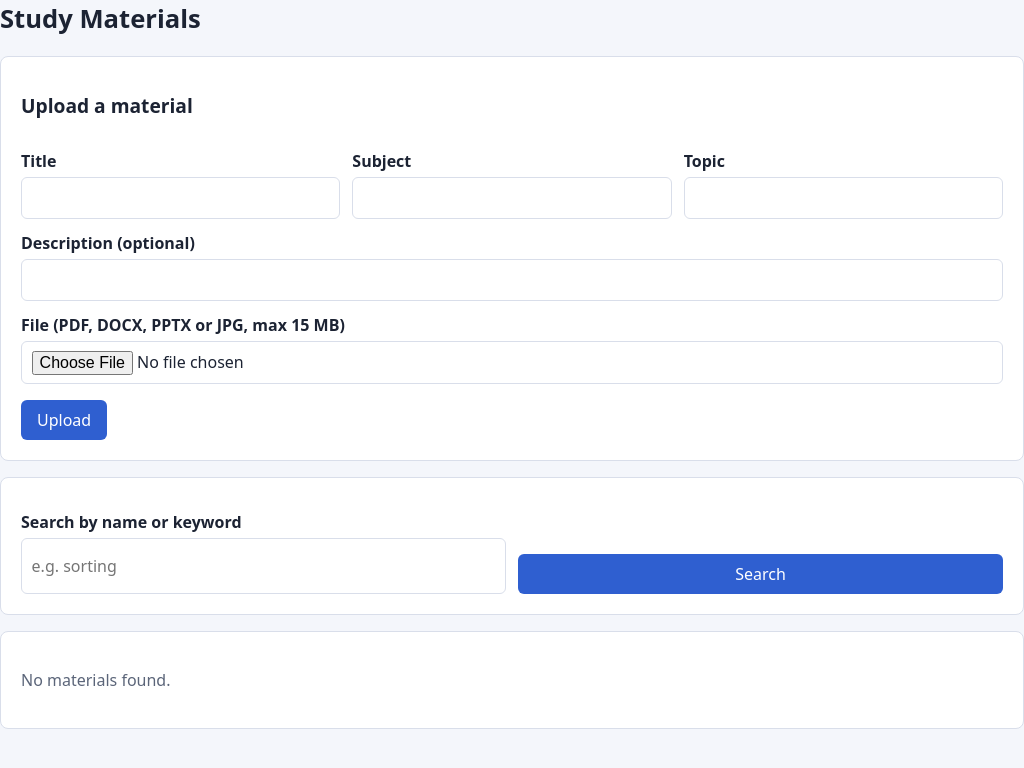
it: TC-Mat-02 client-side 15 MB check (CSMQP-F-011) › uploading without a file shows an error
expect the text "No materials found." is shown: met, box [21,669,170,691]
Type "T" into the field labelled "Title" at (181, 198), box [21,177,340,219]
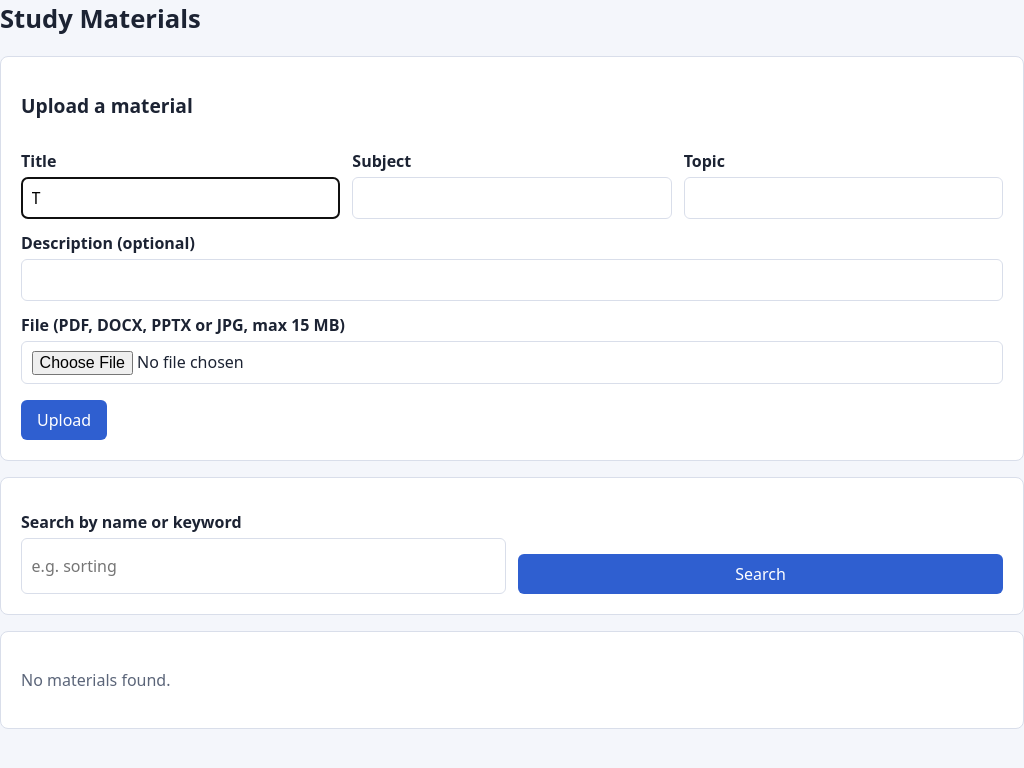
Type "S" into the field labelled "Subject" at (512, 198), box [352,177,672,219]
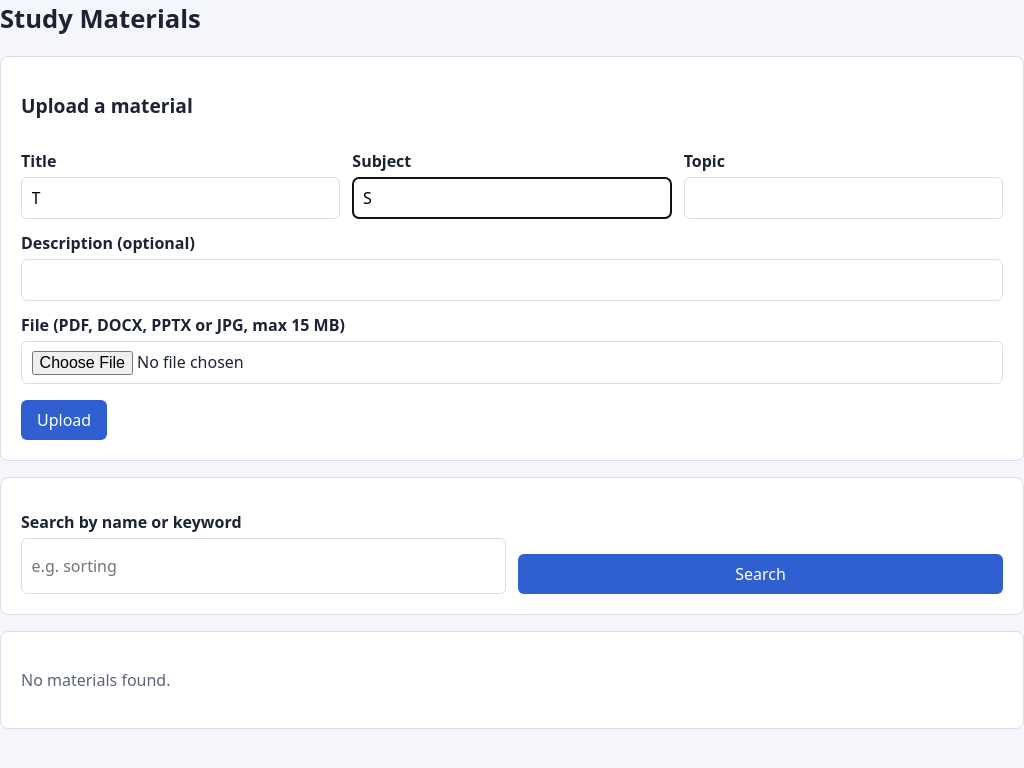
Type "P" into the field labelled "Topic" at (843, 198), box [684,177,1003,219]
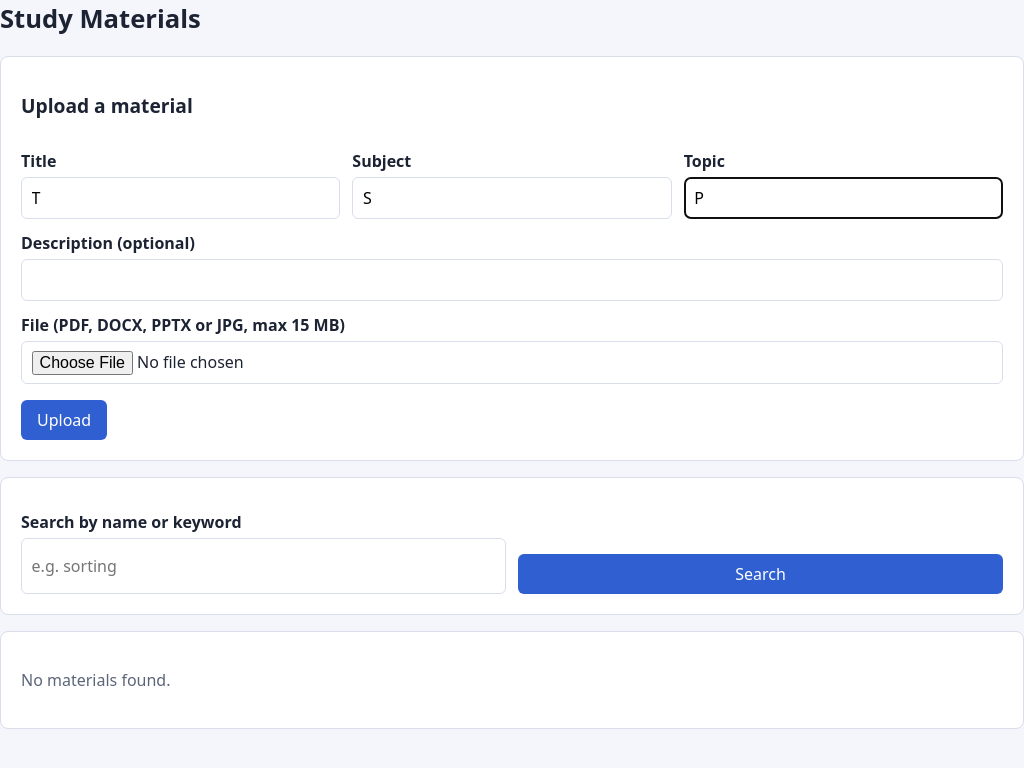
Click the button "Upload" at (64, 420), box [21,400,107,440]
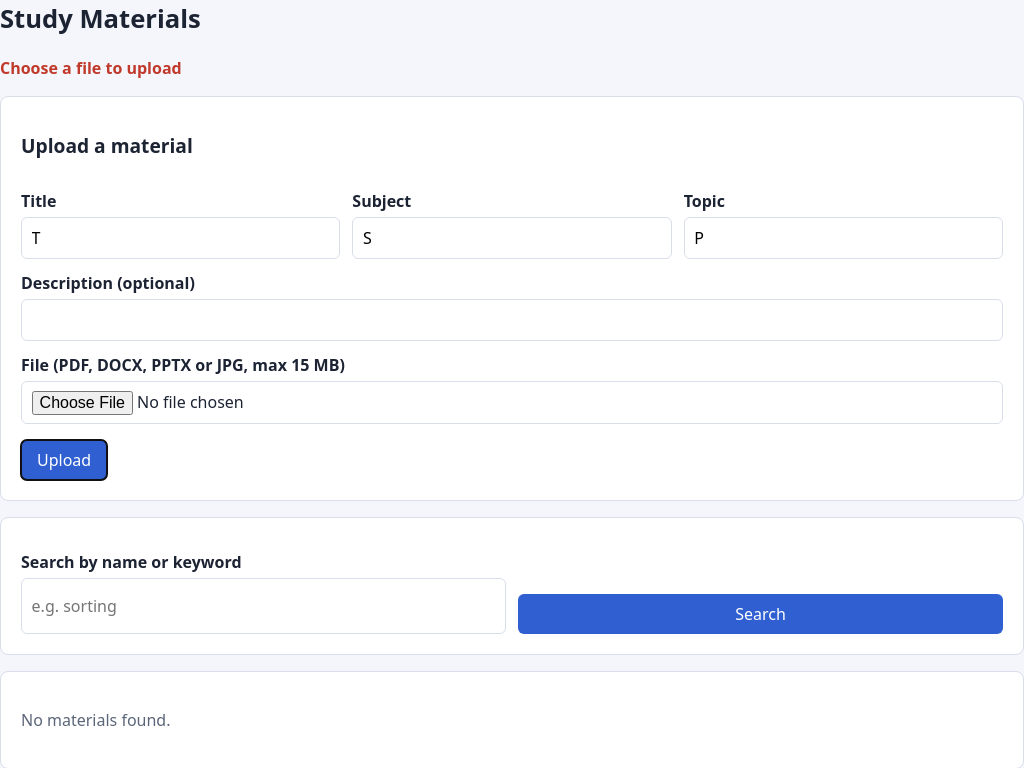
expect the message shows "Choose a file": met, box [0,56,182,78]
